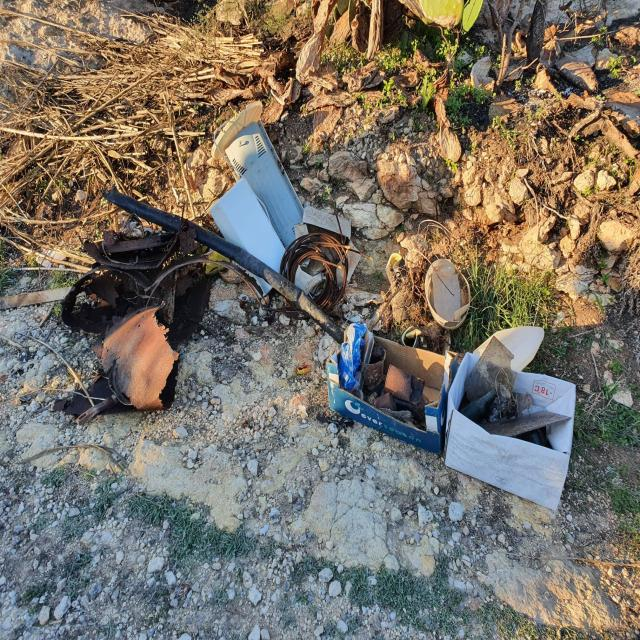Bottle: (459, 386, 499, 424)
Carton: (445, 338, 579, 514), (323, 321, 460, 458)
Other litter: (56, 212, 280, 416), (105, 186, 347, 344), (208, 99, 350, 272), (282, 232, 348, 311)
Other plastic: (423, 258, 470, 333), (473, 327, 545, 371), (338, 324, 366, 390)
